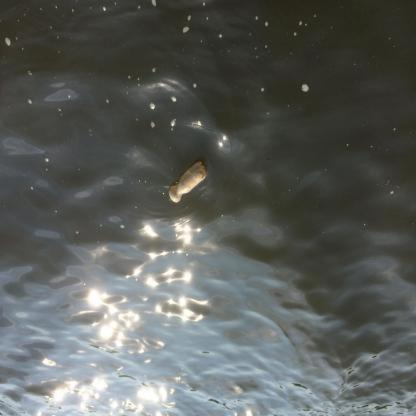Bottle cap: (169, 162, 207, 204)
